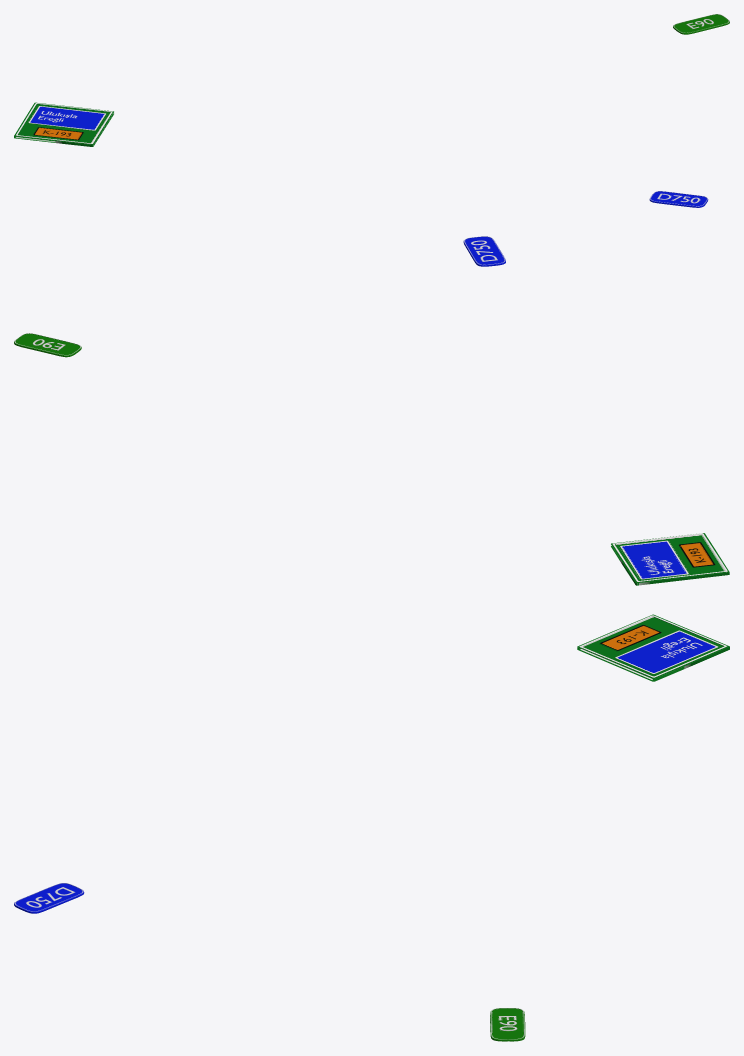
The model's file is GIA_SIGN.fbx.
The picture shows the model from 3 angles, top to bottom: view 1: azimuth 30°, elevation 25°; view 2: azimuth 150°, elevation 25°; view 3: azimuth 270°, elevation 25°; orthographic projection. The views are drawn at different scales.
Parts seen in each view (by area): view 1: G0N002P0; view 2: G0N002P0; view 3: G0N002P0.
Boxes of the visible parts, x1=… form: G0N002P0: x1=14, y1=14, x2=729, y2=207; G0N002P0: x1=14, y1=236, x2=729, y2=585; G0N002P0: x1=14, y1=614, x2=729, y2=1041.
Size of the model in its own units: 2170 by 10.92 by 1551.
Materials: 1 (1 with a texture image).
